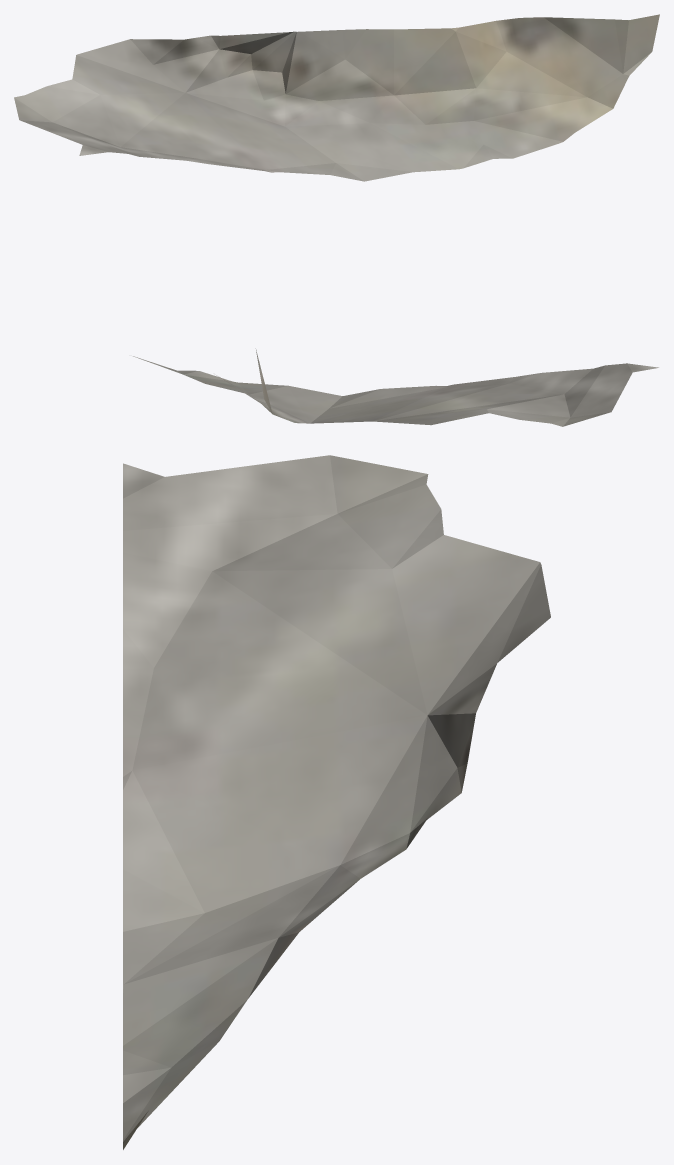
The picture shows the model from 3 angles, top to bottom: view 1: azimuth 30°, elevation 25°; view 2: azimuth 150°, elevation 25°; view 3: azimuth 270°, elevation 25°; orthographic projection. The views are drawn at different scales.
Size of the model in its own units: 1.17 by 0.2066 by 0.3696.
1 material, 1 textured.
